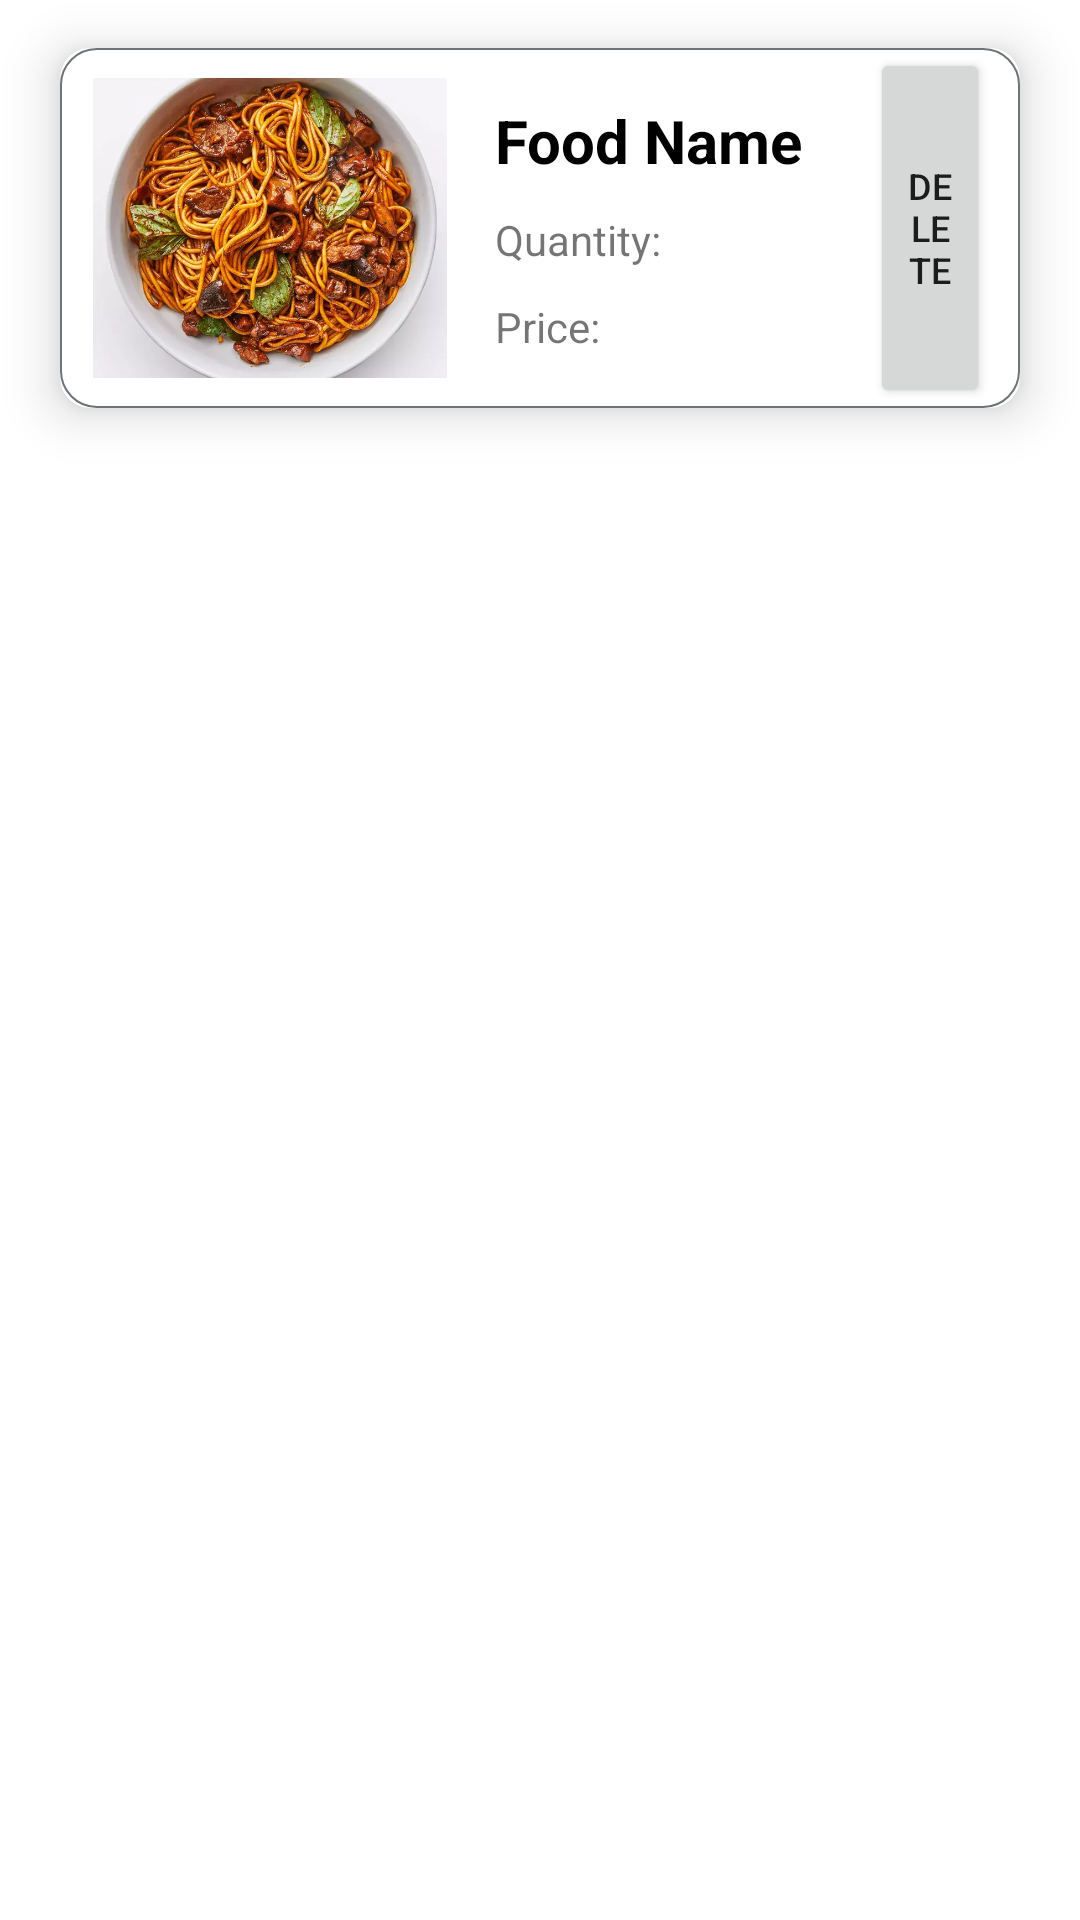

Named icons in this screenshot (1080w x 1920h) and their centers, (x=x, y=y):
noodle: (x=272, y=228)
